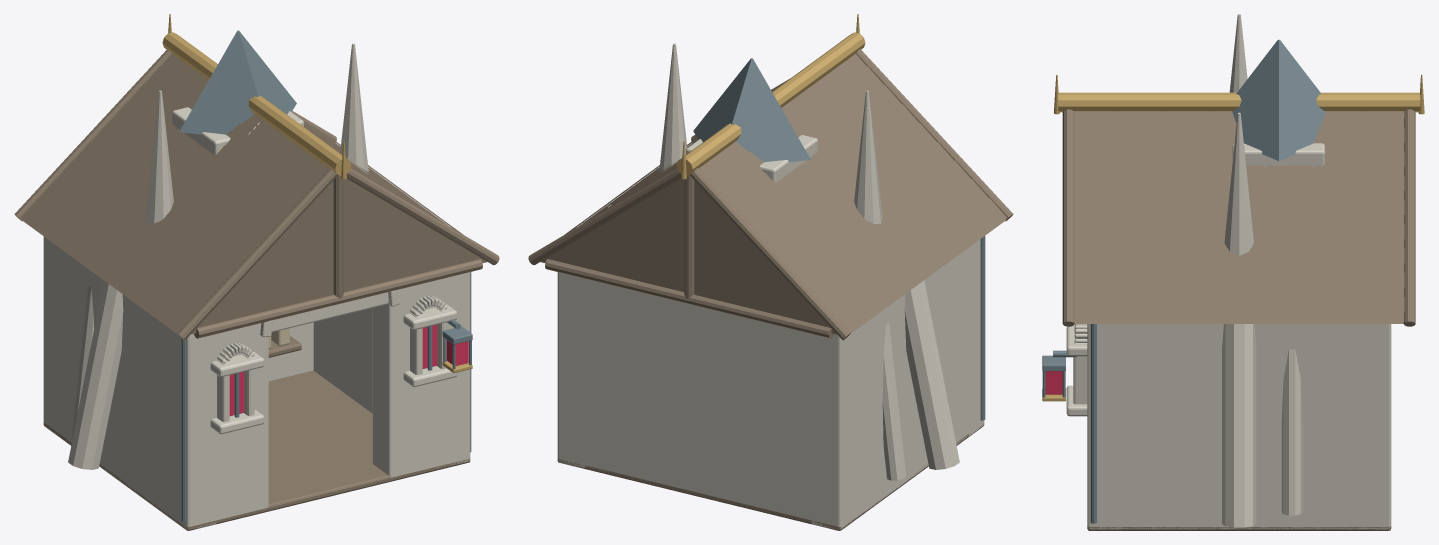
The model's file is a6_service_3.glb.
3 renders of one model, left to right at view 1: azimuth 30°, elevation 25°; view 2: azimuth 150°, elevation 25°; view 3: azimuth 270°, elevation 25°, orthographic. The views are drawn at different scales.
Parts seen in each view (by area): view 1: Roof.027, Side.027, Front.027, Body.063; view 2: Roof.027, Body.063, Side.027, Front.027; view 3: Roof.027, Side.027, Body.063, Front.027.
Boxes of the visible parts, x1,y1,x2,y2 form: Roof.027: (14, 14, 499, 340); Side.027: (43, 170, 471, 530); Front.027: (171, 273, 472, 528); Body.063: (43, 237, 470, 530); Roof.027: (528, 14, 1013, 340); Body.063: (557, 272, 984, 530); Side.027: (558, 205, 985, 530); Front.027: (968, 239, 983, 436); Roof.027: (1054, 14, 1424, 326); Side.027: (1087, 324, 1388, 529); Body.063: (1087, 324, 1391, 530); Front.027: (1042, 324, 1121, 530).
Size of the model in its own units: 3.42 by 3.5 by 2.89.
